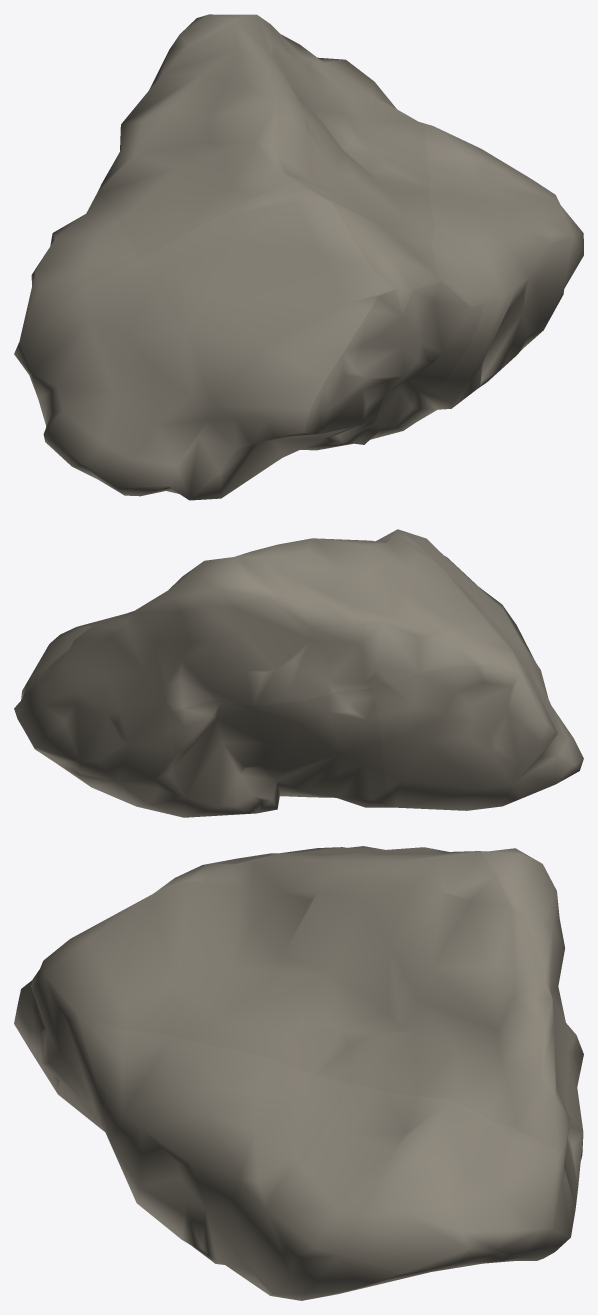
Rendered from ph_moonrock_3.glb.
3 renders of one model, top to bottom at view 1: azimuth 30°, elevation 25°; view 2: azimuth 150°, elevation 25°; view 3: azimuth 270°, elevation 25°, orthographic. The views are drawn at different scales.
Visible parts, largest first — view 1: ph_moonrock_3_lod1; view 2: ph_moonrock_3_lod1; view 3: ph_moonrock_3_lod1.
Part boxes in pixels (x1=…): ph_moonrock_3_lod1: x1=14, y1=14, x2=583, y2=500; ph_moonrock_3_lod1: x1=14, y1=529, x2=583, y2=817; ph_moonrock_3_lod1: x1=14, y1=846, x2=583, y2=1300.
Size of the model in its own units: 0.1124 by 0.0583 by 0.0859.
Materials: 1 (1 with a texture image).
